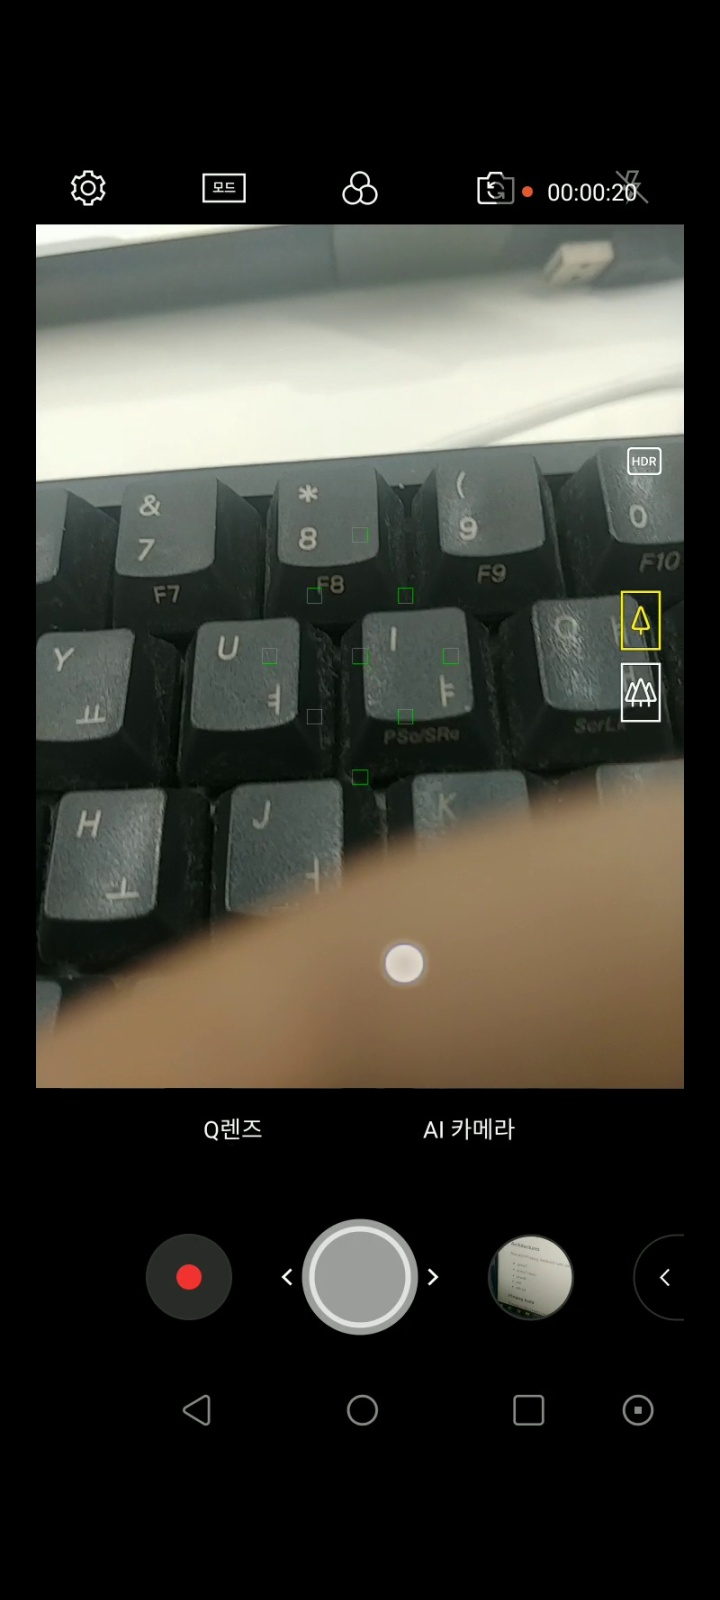Cursor: (382, 943, 427, 988)
